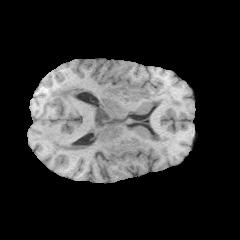glioma: (42, 82, 168, 170)
